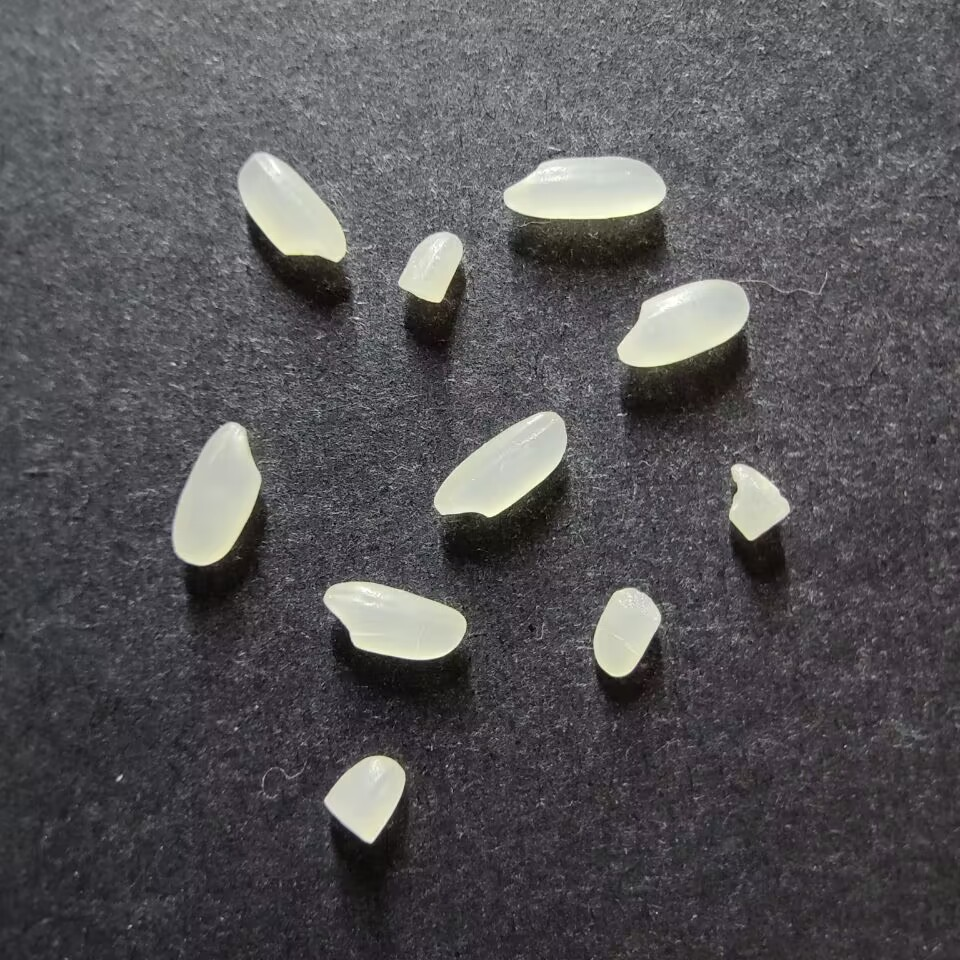broken: (324, 754, 406, 844), (593, 586, 662, 678), (728, 463, 792, 541), (398, 230, 464, 303)
rice: (433, 410, 568, 519), (172, 421, 262, 566), (237, 151, 347, 262), (617, 279, 751, 368), (323, 581, 466, 660), (503, 155, 666, 220)
